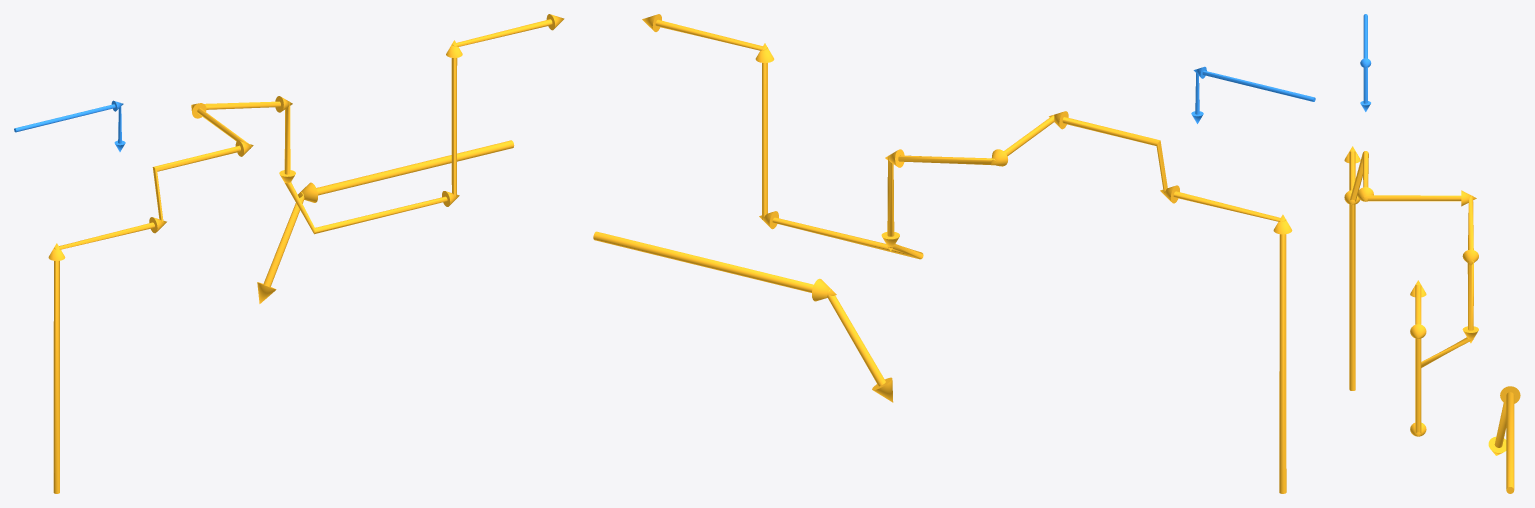
The model's file is lubricating_oil_skid_flow.glb.
3 views of the same model, side by side, from view 1: azimuth 30°, elevation 25°; view 2: azimuth 150°, elevation 25°; view 3: azimuth 270°, elevation 25° (orthographic). The views are drawn at different scales.
Visible parts, largest first — view 1: oil_circuit, return, cooling_water; view 2: oil_circuit, return, cooling_water; view 3: oil_circuit, return, cooling_water.
Boxes of the visible parts, x1,y1,x2,y2 form: oil_circuit: (48,14,564,493); return: (257,140,514,303); cooling_water: (14,100,125,151); oil_circuit: (642,14,1292,493); return: (593,231,893,402); cooling_water: (1191,66,1315,123); oil_circuit: (1344,146,1478,436); return: (1488,386,1520,493); cooling_water: (1360,14,1371,111).
Size of the model in its own units: 2.47 by 1.52 by 0.6702.
